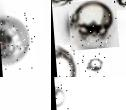ironball: (66, 0, 117, 51), (0, 12, 35, 72), (76, 52, 108, 77), (53, 44, 77, 77), (53, 83, 68, 109), (51, 0, 79, 13), (112, 0, 125, 12), (52, 77, 73, 82)
